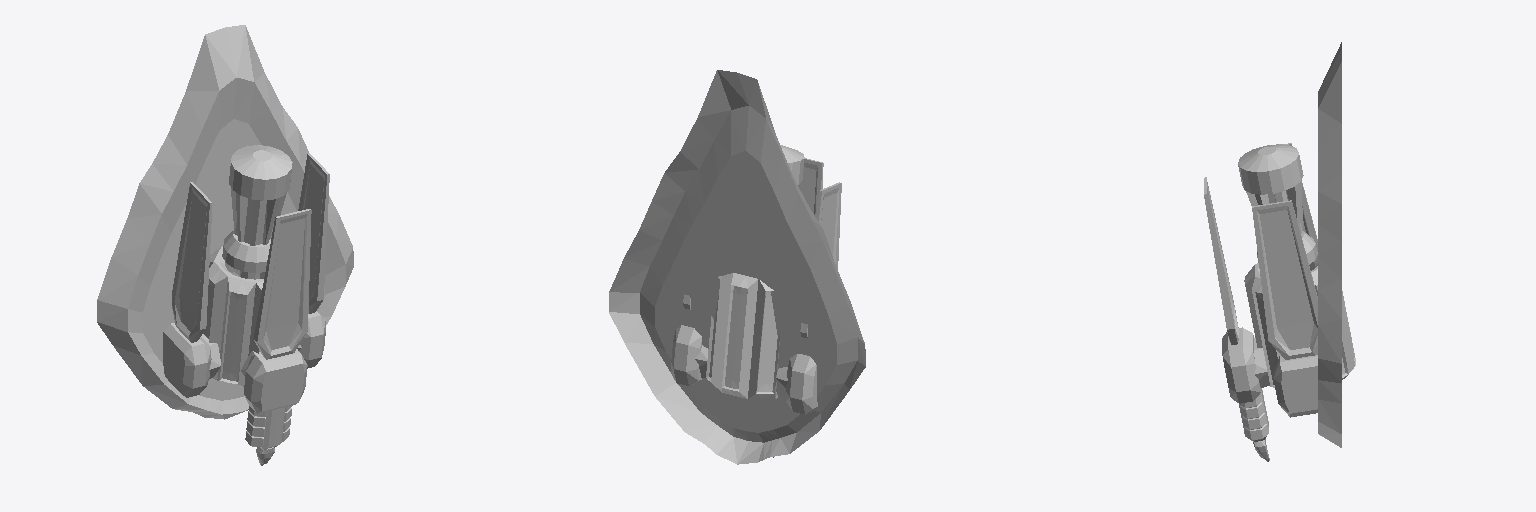
File: colony_ship.obj
3 views of the same model, side by side, from view 1: azimuth 30°, elevation 25°; view 2: azimuth 150°, elevation 25°; view 3: azimuth 270°, elevation 25° (orthographic).
Visible parts, largest first — view 1: Cylinder.011, Cylinder.003, Cylinder.004, Cylinder.006, Cylinder.002, Cylinder.005, Cylinder.001; view 2: Cylinder.011, Cylinder.002, Cylinder.004, Cylinder.005, Cylinder.003; view 3: Cylinder.005, Cylinder.011, Cylinder.003, Cylinder.006, Cylinder.002, Cylinder.001.
Part boxes in pixels (bbox=[...]): Cylinder.011: bbox=[97, 25, 353, 419]; Cylinder.003: bbox=[241, 209, 311, 413]; Cylinder.004: bbox=[163, 182, 220, 397]; Cylinder.006: bbox=[222, 145, 292, 272]; Cylinder.002: bbox=[203, 246, 264, 386]; Cylinder.005: bbox=[297, 153, 329, 368]; Cylinder.001: bbox=[245, 405, 292, 465]; Cylinder.011: bbox=[609, 70, 865, 464]; Cylinder.002: bbox=[706, 273, 779, 398]; Cylinder.004: bbox=[776, 182, 841, 414]; Cylinder.005: bbox=[671, 294, 707, 385]; Cylinder.003: bbox=[799, 158, 823, 216]; Cylinder.005: bbox=[1252, 200, 1317, 417]; Cylinder.011: bbox=[1318, 42, 1341, 447]; Cylinder.003: bbox=[1204, 177, 1269, 403]; Cylinder.006: bbox=[1238, 144, 1317, 264]; Cylinder.002: bbox=[1244, 252, 1355, 387]; Cylinder.001: bbox=[1239, 388, 1269, 461].
Size of the model in its own units: 2.83 by 4.33 by 1.45.